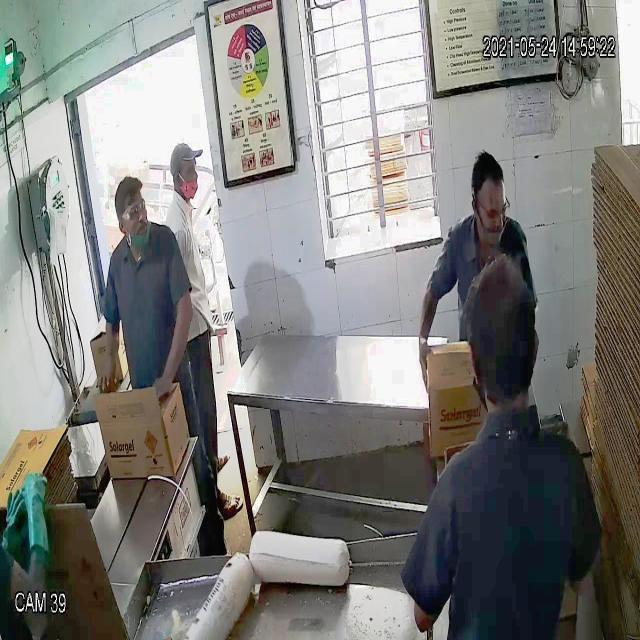glasses: (112, 198, 148, 225)
